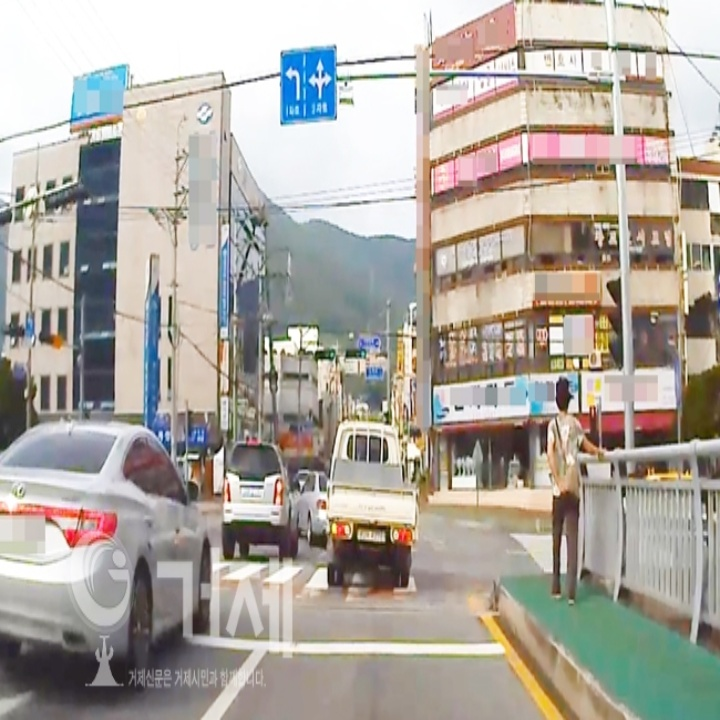left: (282, 65, 304, 106)
